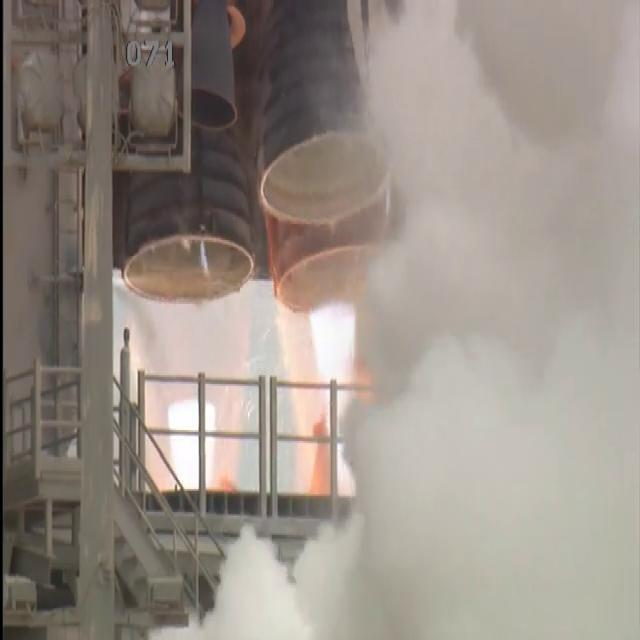smoke: (546, 4, 636, 91), (561, 245, 633, 332), (544, 100, 637, 166), (400, 4, 468, 91), (472, 9, 540, 93), (368, 329, 440, 397), (461, 178, 532, 242), (564, 344, 634, 408), (503, 332, 558, 407), (412, 402, 474, 466), (380, 101, 440, 166), (346, 401, 406, 464), (446, 326, 498, 396), (400, 171, 458, 233), (502, 255, 555, 322), (382, 246, 437, 310), (355, 474, 411, 536), (272, 558, 319, 630), (448, 98, 493, 173), (482, 410, 540, 468), (442, 250, 494, 314), (538, 177, 590, 240), (415, 476, 471, 534), (477, 476, 537, 530), (591, 172, 636, 238), (496, 102, 540, 168), (543, 416, 592, 474), (357, 540, 421, 584), (425, 539, 482, 588), (486, 538, 540, 584), (314, 526, 354, 587), (231, 539, 269, 603), (546, 534, 592, 584), (546, 482, 594, 528), (372, 592, 421, 636), (588, 590, 636, 632), (600, 416, 638, 469), (215, 599, 268, 636), (488, 596, 532, 640), (430, 598, 478, 638), (598, 536, 634, 587), (323, 592, 367, 632), (543, 592, 578, 638), (372, 30, 396, 97), (596, 481, 636, 521), (362, 269, 383, 329)
